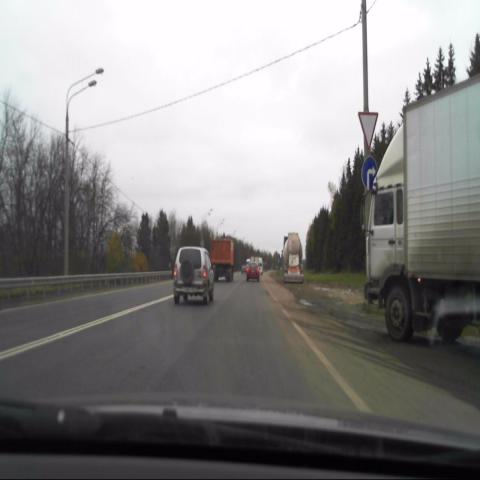4_1_2: (360, 155, 378, 192)
